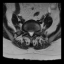CCS_normal: (30, 29, 32, 38)
LFS_severe_stenosis: (34, 29, 36, 35)
LLS_stenosis: (32, 29, 34, 35)
RFS_severe_stenosis: (26, 29, 28, 34)
RLS_normal: (28, 30, 30, 36)
